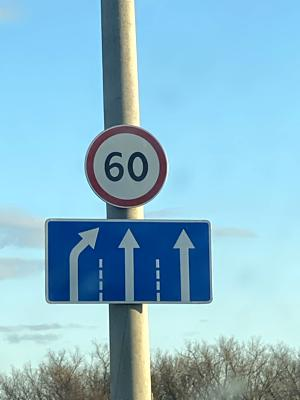Speed Limit -60-: (81, 121, 168, 208)
